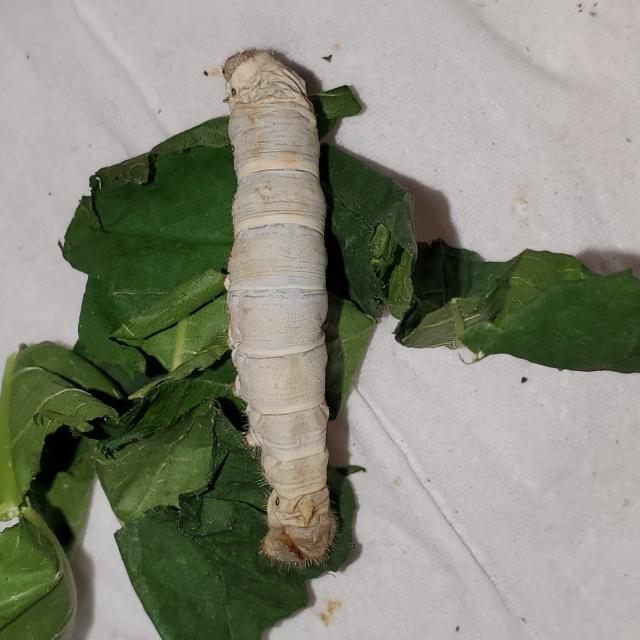Grasserie: (174, 22, 453, 605)
